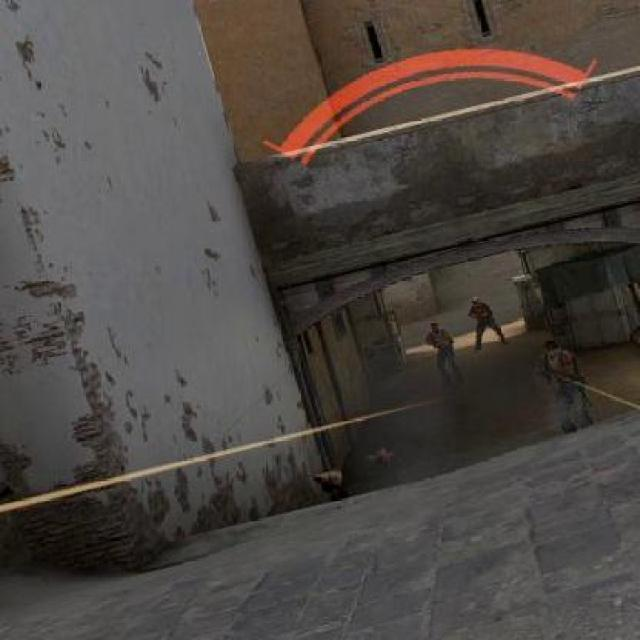T: (534, 337, 602, 431), (423, 318, 463, 388), (464, 294, 508, 352)
T_HEAD: (543, 338, 562, 357), (469, 294, 483, 308), (429, 320, 442, 331)
